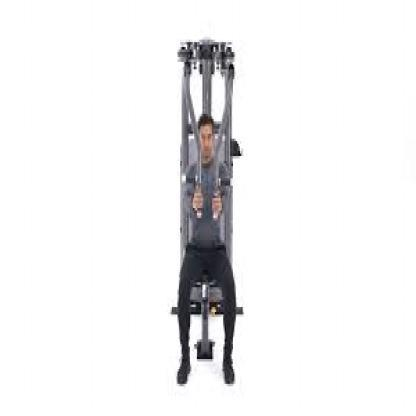chest fly machine: (166, 29, 248, 399)
